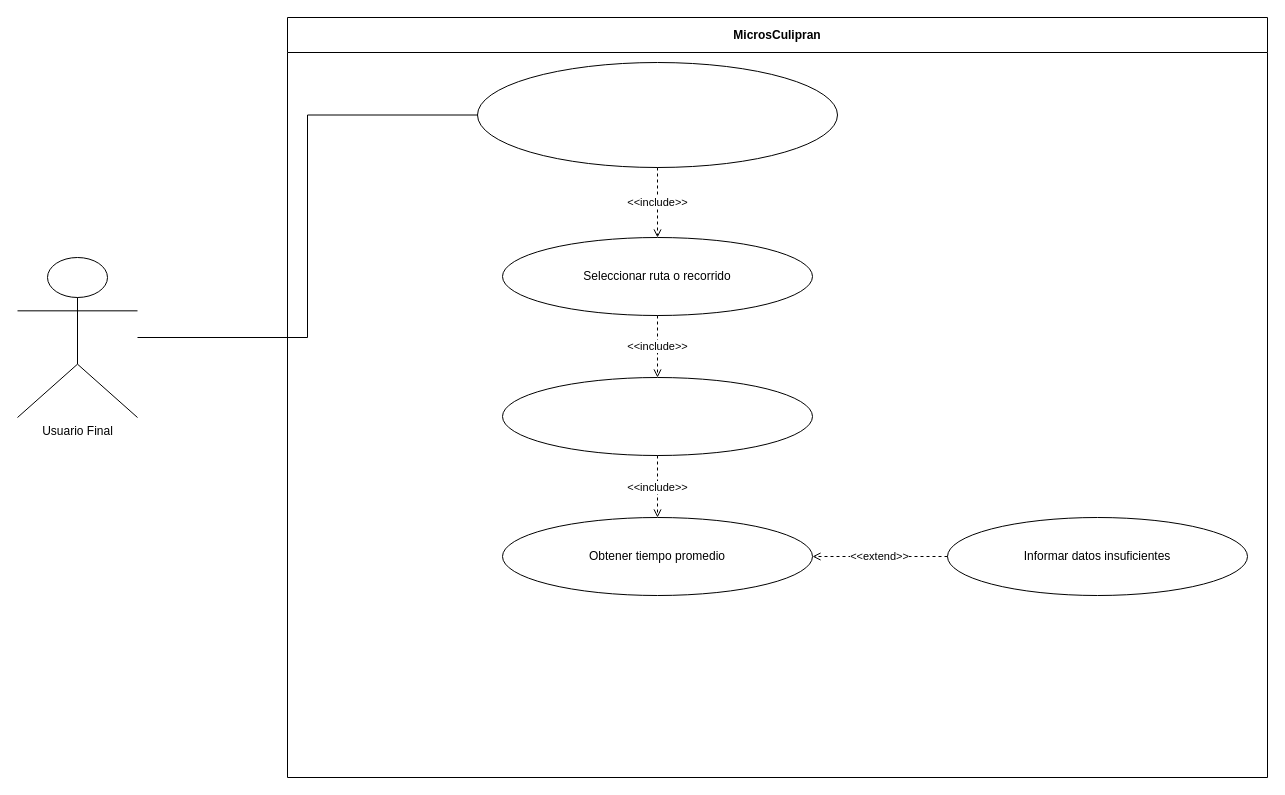
Image size: 1285x795. Some labels were removed from this diagram. The box of each missing label's shape, as (x1, y1, x2, y2) in pixels:
Consultar datos históricos: (502, 376, 812, 456)
CU-07 Consultar tiempo promedio: (476, 62, 838, 168)
